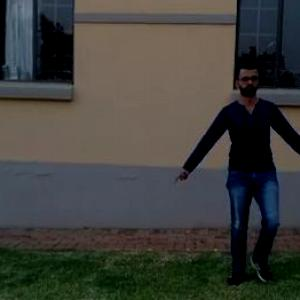land: (173, 62, 299, 293)
